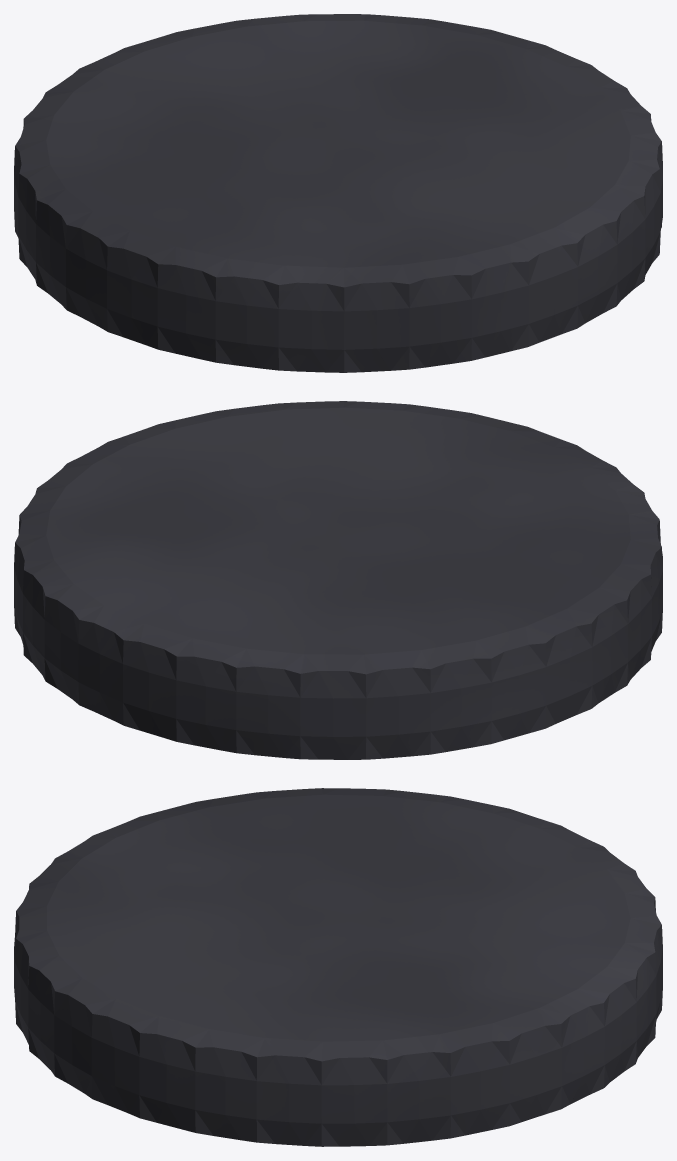
The model's file is obsidian.glb.
3 renders of one model, top to bottom at view 1: azimuth 30°, elevation 25°; view 2: azimuth 150°, elevation 25°; view 3: azimuth 270°, elevation 25°, orthographic.
Visible parts, largest first — view 1: disc-convcol; view 2: disc-convcol; view 3: disc-convcol.
Boxes of the visible parts, left/top/right/bottom form: disc-convcol: left=14, top=14, right=662, bottom=372; disc-convcol: left=14, top=401, right=662, bottom=759; disc-convcol: left=14, top=788, right=662, bottom=1146.
Size of the model in its own units: 0.0425 by 0.00713 by 0.0425.
Materials: 1 (1 with a texture image).
